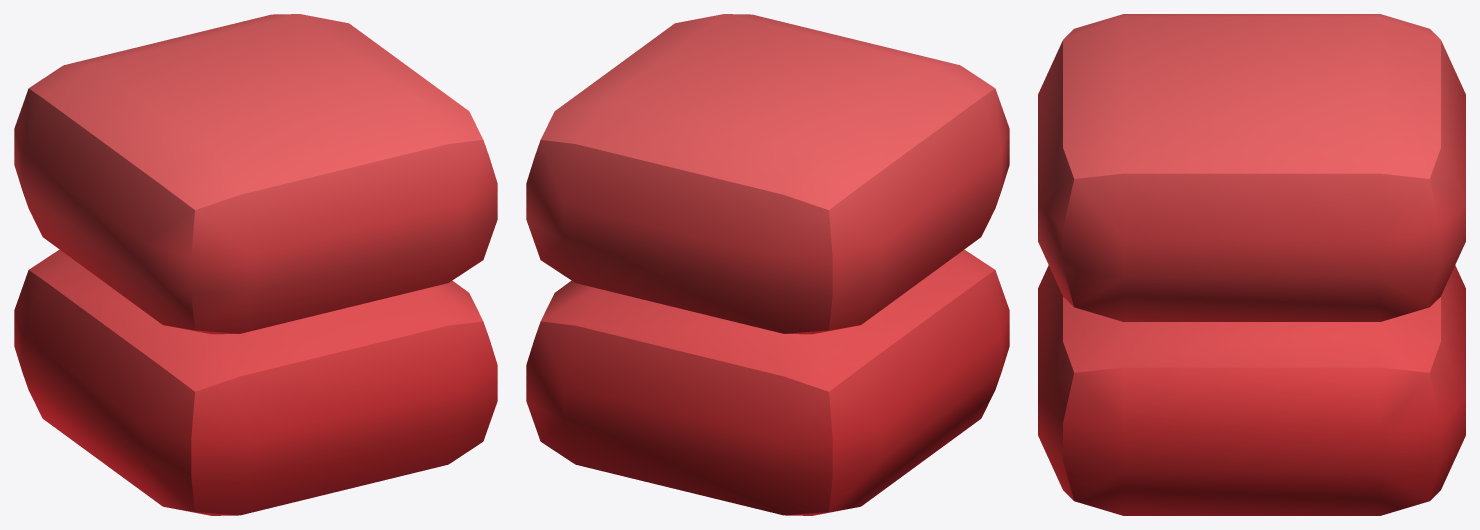
The model's file is kaykit_barrier_1x1x1_red.glb.
The picture shows the model from 3 angles, left to right: view 1: azimuth 30°, elevation 25°; view 2: azimuth 150°, elevation 25°; view 3: azimuth 270°, elevation 25°; orthographic projection. The views are drawn at different scales.
Parts seen in each view (by area): view 1: barrier_1x1x1_red_visual; view 2: barrier_1x1x1_red_visual; view 3: barrier_1x1x1_red_visual.
Part boxes in pixels (x1,y1,x2,y2): barrier_1x1x1_red_visual: (14, 14, 497, 515); barrier_1x1x1_red_visual: (526, 14, 1009, 515); barrier_1x1x1_red_visual: (1038, 14, 1465, 515).
Size of what is drawn, in the model's own units: 1 by 1 by 1.
Materials: 1 (1 with a texture image).
